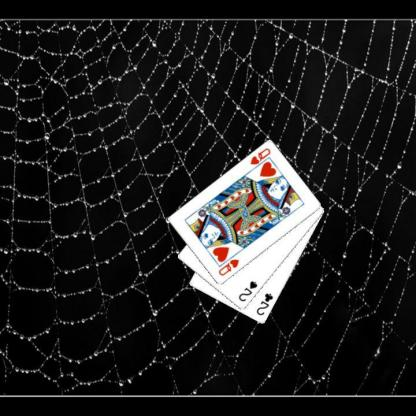2C: (254, 291, 274, 317)
2S: (236, 278, 259, 303)
QH: (247, 146, 272, 172), (216, 257, 240, 278)
